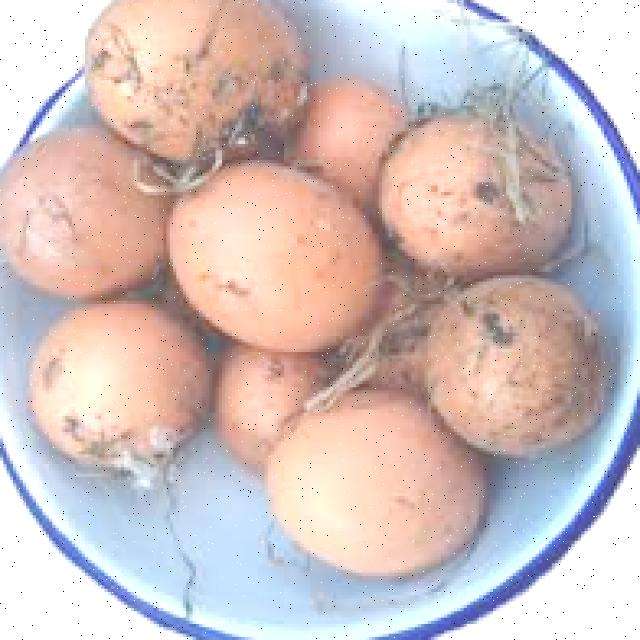Brown Egg: (155, 148, 396, 354), (252, 386, 486, 586)
Dirt Stained Egg: (423, 264, 621, 462), (82, 0, 320, 160), (25, 299, 215, 476), (376, 110, 576, 276)
